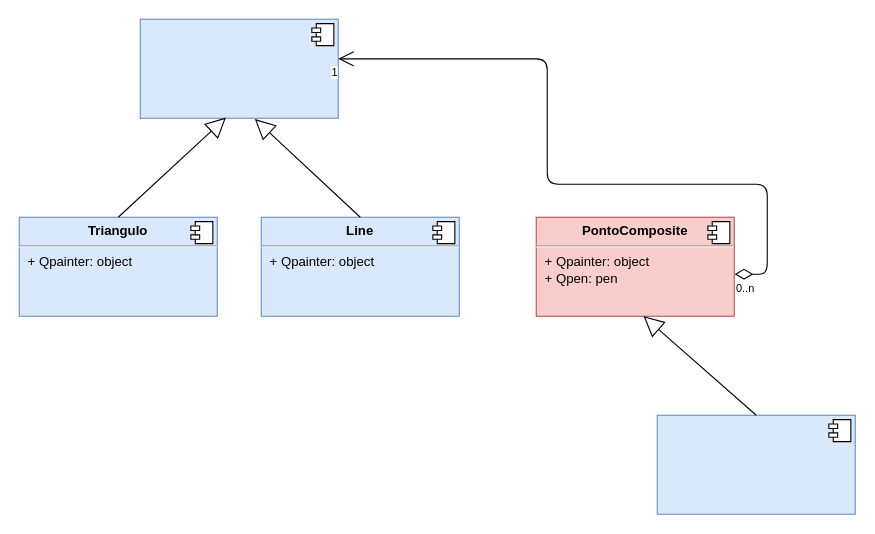
The diagram is 875 pixels wide and 534 high, and some of its shapes have lost their labels. Here are the shapes that lost their labels. From the top down, the centre of each, then its label:
At pixel 238 68: "Ponto + Qpainter: object + Qpen: pen".
At pixel 755 464: "Quadrado + Qpainter: object".
